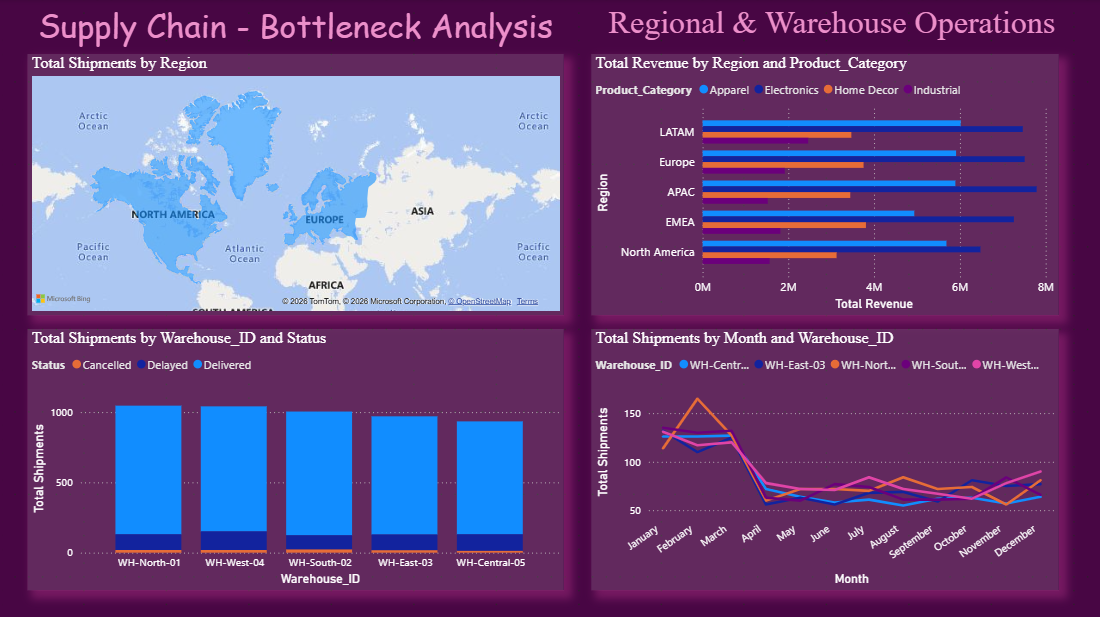

This screenshot's page, from the dashboard's own definition file:
{"tool":"powerbi","page":{"name":"Regional & product category","canvas":[1280,720],"ordinal":3},"visuals":[{"type":"textbox","box":[0,0,688,64],"z":0},{"type":"textbox","box":[656,0,624,64],"z":1000},{"type":"filledMap","fields":{"Category":["Shipment_Records.Region"]},"box":[32,64,624,304],"z":2000},{"type":"clusteredBarChart","fields":{"Category":["Shipment_Records.Region"],"Y":["Shipment_Records.Total Revenue"],"Series":["Shipment_Records.Product_Category"]},"box":[688,64,544,304],"z":3000},{"type":"columnChart","fields":{"Category":["Shipment_Records.Warehouse_ID"],"Y":["Shipment_Records.Total Shipments"],"Series":["Shipment_Records.Status"]},"box":[32,384,624,304],"z":4000},{"type":"lineChart","fields":{"Category":["Shipment_Records.Order_Date.Variation.Date Hierarchy.Month"],"Y":["Shipment_Records.Total Shipments"],"Series":["Shipment_Records.Warehouse_ID"]},"box":[688,384,544,304],"z":5000}]}

Visuals, with their boxes in screenshot pixels (x1, y1, x2, y2), scaled from the page's 1280x720 canvas onto the 1100x617 screenshot:
textbox: [x1=0, y1=0, x2=591, y2=55]
textbox: [x1=564, y1=0, x2=1099, y2=55]
filledMap - Shipment_Records.Region: [x1=28, y1=55, x2=564, y2=315]
clusteredBarChart - Shipment_Records.Region x Shipment_Records.Total Revenue: [x1=591, y1=55, x2=1059, y2=315]
columnChart - Shipment_Records.Warehouse_ID x Shipment_Records.Total Shipments: [x1=28, y1=329, x2=564, y2=590]
lineChart - Shipment_Records.Order_Date.Variation.Date Hierarchy.Month x Shipment_Records.Total Shipments: [x1=591, y1=329, x2=1059, y2=590]
